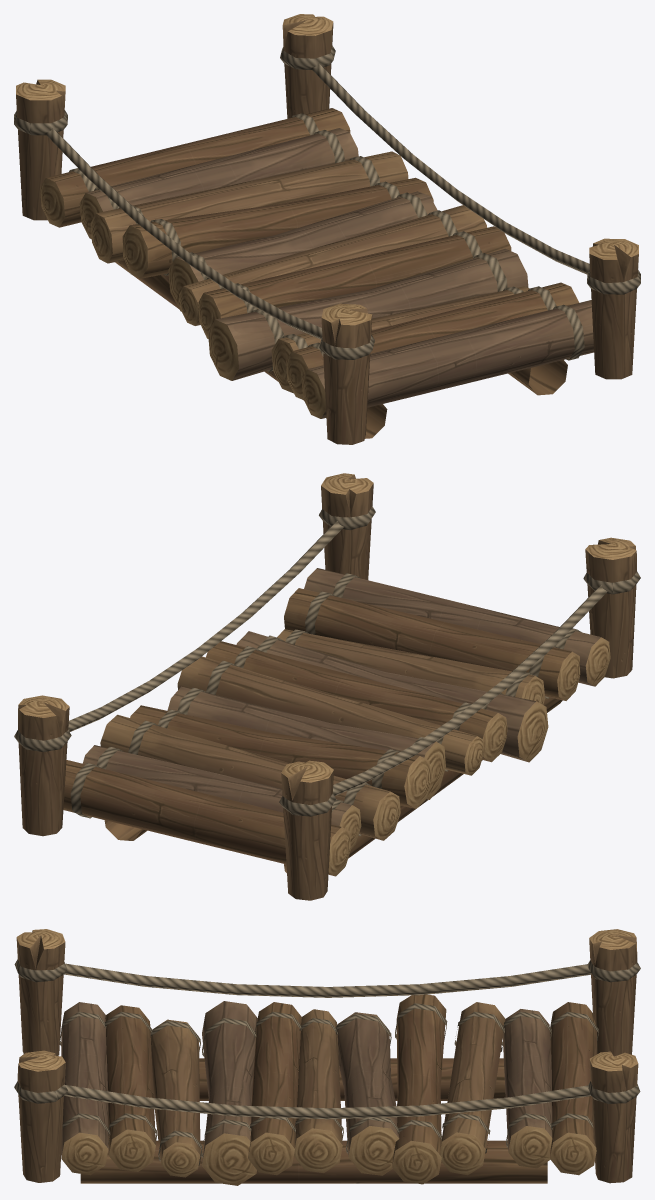
The model's file is Bridge2.fbx.
3 renders of one model, top to bottom at view 1: azimuth 30°, elevation 25°; view 2: azimuth 150°, elevation 25°; view 3: azimuth 270°, elevation 25°, orthographic. The views are drawn at different scales.
Visible parts, largest first — view 1: polySurface77; view 2: polySurface77; view 3: polySurface77.
Boxes of the visible parts, left/top/right/bottom form: polySurface77: left=14, top=14, right=640, bottom=444; polySurface77: left=14, top=473, right=640, bottom=900; polySurface77: left=14, top=929, right=640, bottom=1185.
Size of the model in its own units: 145 by 67.05 by 262.
1 material, 1 textured.
